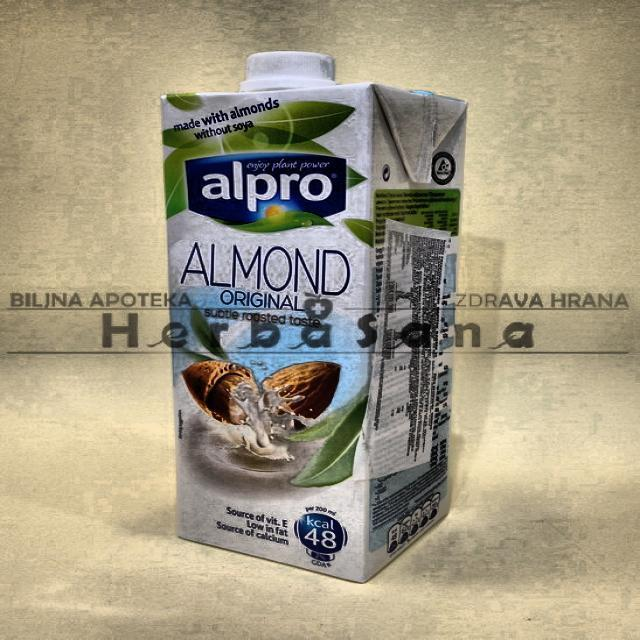cardboard: (160, 75, 466, 582)
